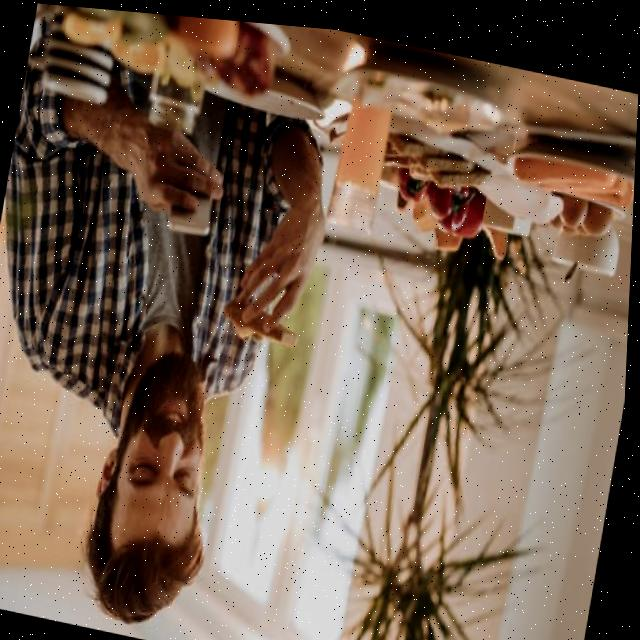eating-person: (0, 3, 632, 622)
